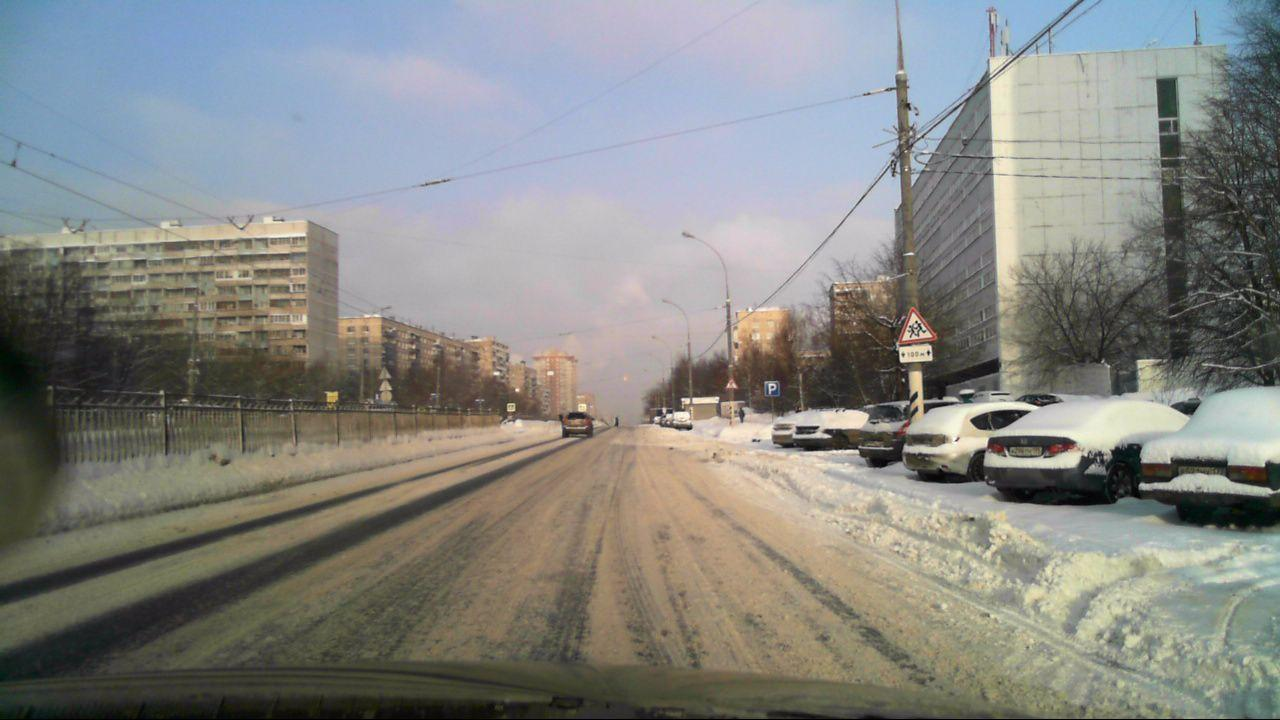1_22: (725, 376, 738, 388)
1_23: (897, 306, 936, 344)
6_4: (765, 380, 780, 397)
8_2_1: (899, 344, 932, 362)
